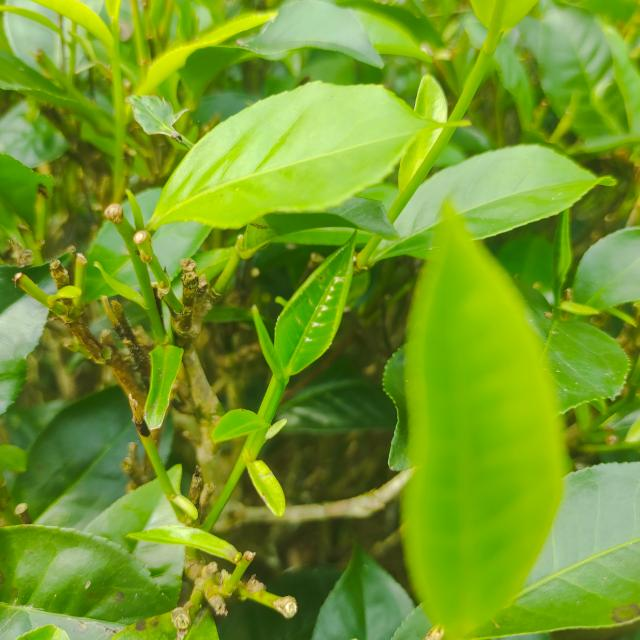unopened_leaf: (243, 299, 290, 386)
